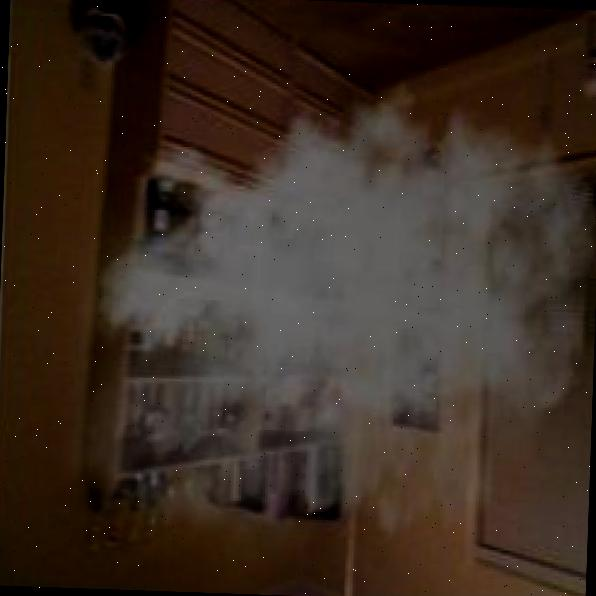smoke: (37, 52, 596, 596)
